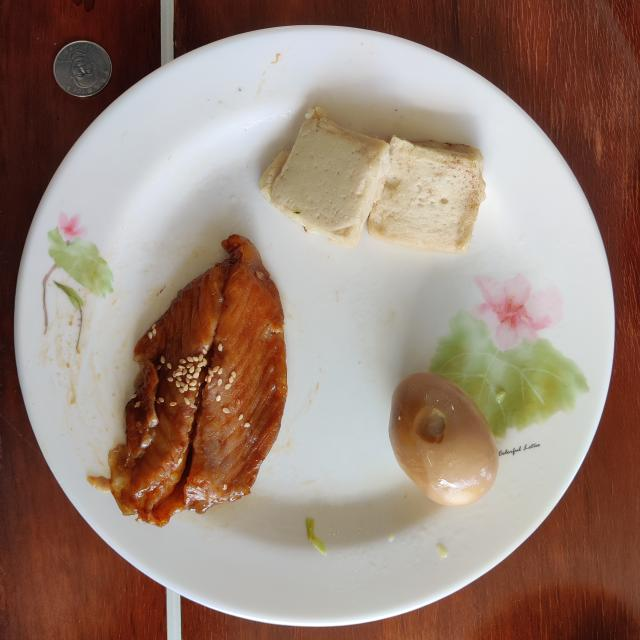Kabayaki sea bream fillet: (88, 235, 288, 526)
coin: (54, 40, 111, 98)
creamy tofu -without sauce-: (259, 108, 485, 254)
soy egg: (389, 372, 499, 506)
